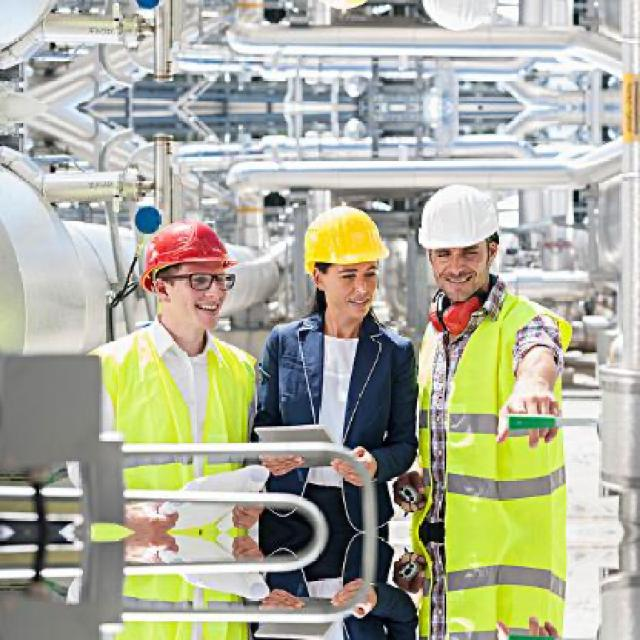con casco: (126, 216, 243, 327), (282, 195, 395, 293), (408, 181, 495, 287)
